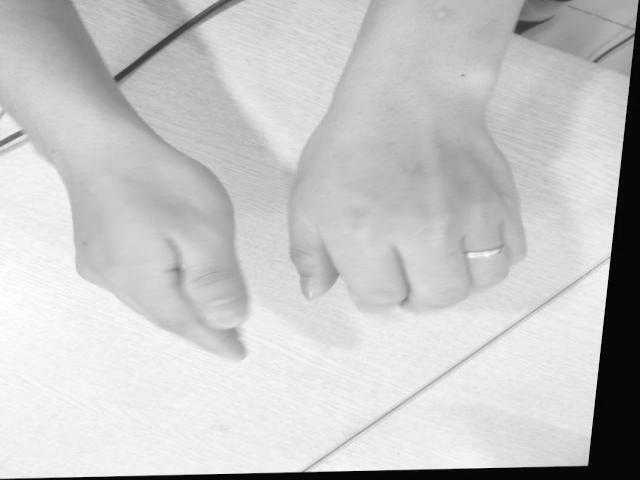not-gloved: (289, 101, 532, 310), (67, 152, 249, 362)
